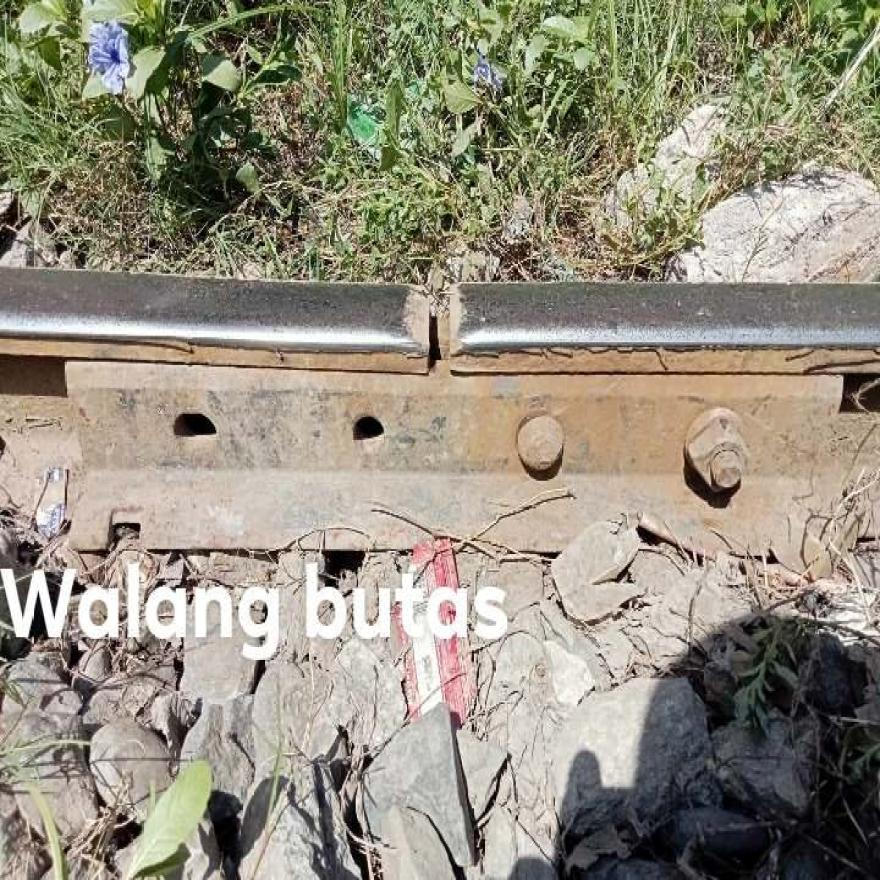railway-gap: (376, 252, 504, 405)
